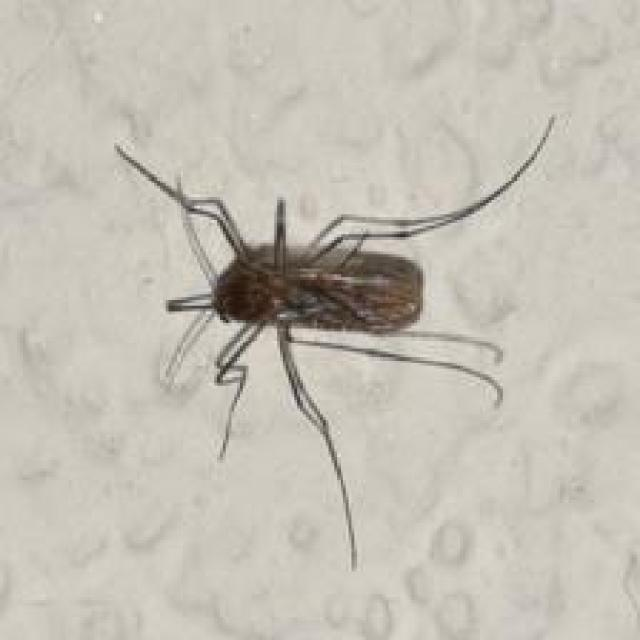Culex: (113, 111, 556, 572)
